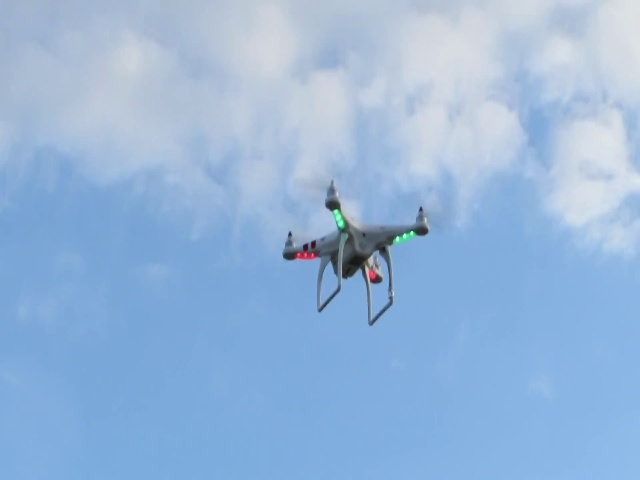drone: (269, 164, 445, 331)
